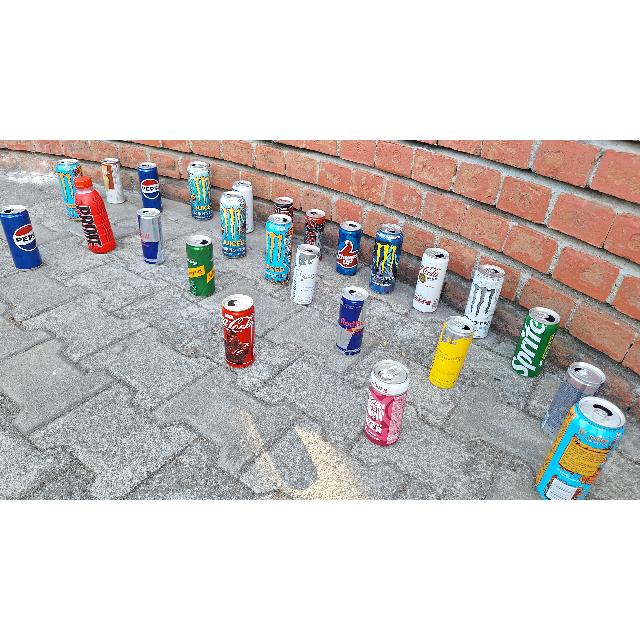Coca Cola - Marvel: (217, 296, 257, 366)
Coca Cola Plus: (409, 250, 449, 314)
Coolberg: (364, 360, 411, 446)
Hell Apple: (302, 211, 328, 245)
Hell Classic: (272, 196, 296, 214)
Monster Aussie Lemonade: (218, 192, 250, 258), (187, 160, 216, 220)
Monster LH44: (370, 224, 400, 294)
Monster Mango Loco: (534, 407, 630, 497), (264, 218, 294, 284), (56, 161, 82, 219)
Nescafe Classic Iced Latte: (103, 157, 127, 203)
Pepsi: (0, 208, 48, 270), (138, 164, 162, 206)
Pepsi Retro: (230, 180, 252, 194)
Prime - Shitass: (72, 178, 118, 252)
Redbull: (336, 286, 368, 358), (138, 208, 168, 266)
Redbull Summer Edition: (290, 243, 322, 307)
Redbull Yellow Edition: (427, 317, 477, 387)
Schweppes: (183, 234, 219, 296)
Sprite: (512, 310, 560, 374)
Thums Up: (336, 224, 362, 276)
White Monster: (464, 264, 506, 320)
